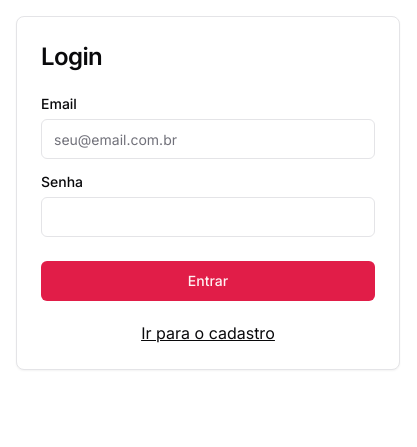
Test: LoginForm › shows error message if login fails
The image size is (417, 447).
In the field labelled "Email": (208, 139) [41,119,375,159], type "user@email.com"
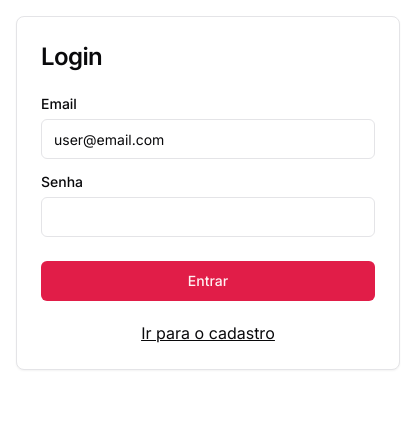
In the password field labelled "Senha": (208, 217) [41,197,375,237], type "wrongpassword"
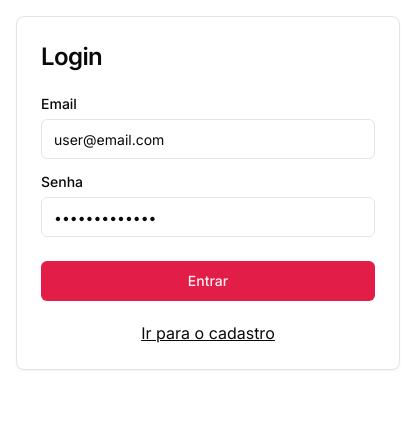
Click the button "Entrar": (208, 281) [41,261,375,301]
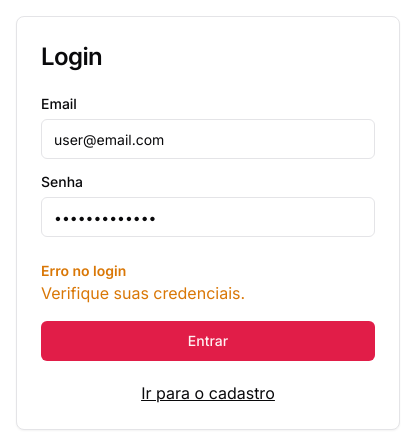
Now the text "Erro no login" is shown, box [41,262,126,279]
Now the text "Verifique suas credenciais." is shown, box [41,283,245,303]
